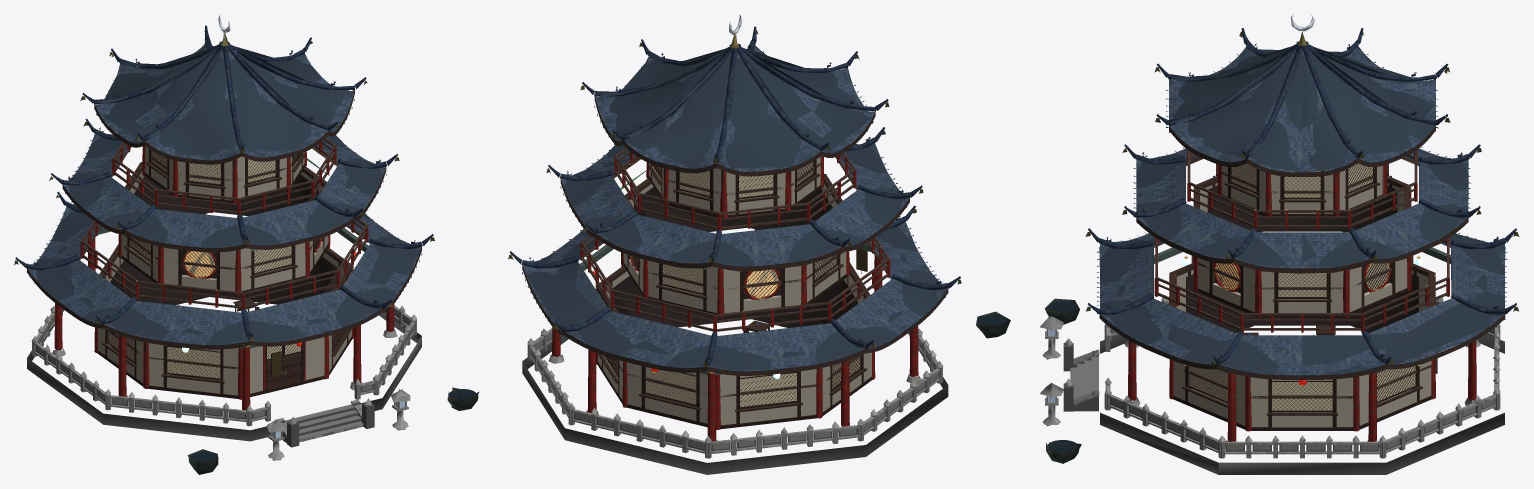
The model's file is prop_teahouse_octagon.gltf.
3 renders of one model, left to right at view 1: azimuth 30°, elevation 25°; view 2: azimuth 150°, elevation 25°; view 3: azimuth 270°, elevation 25°, orthographic. The views are drawn at different scales.
Parts seen in each view (by area): view 1: Far, Near; view 2: Far, Near; view 3: Far, Near.
Boxes of the visible parts, box(x1,y1,x2,y2) form: Far: box(27, 25, 479, 474); Near: box(14, 14, 478, 471); Far: box(522, 20, 1010, 474); Near: box(508, 14, 1009, 454); Far: box(1040, 22, 1506, 474); Near: box(1040, 14, 1519, 463).
Size of the model in its own units: 19.79 by 19.03 by 21.9.
25 materials, 17 textured.
